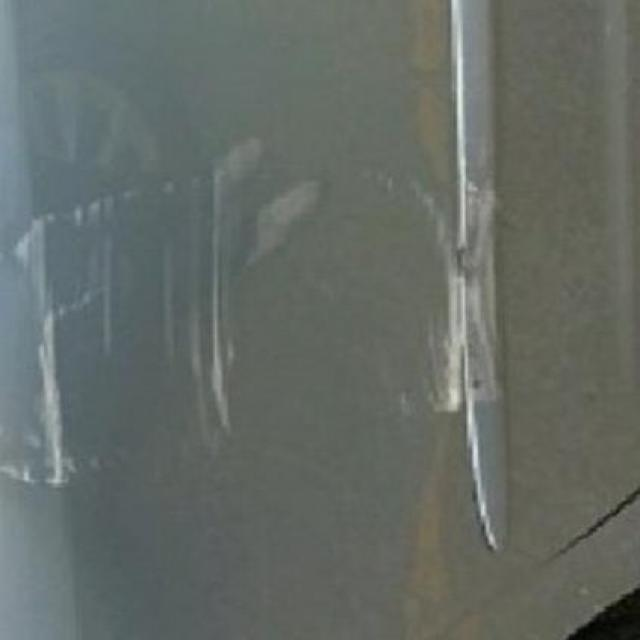scratch: (0, 120, 513, 540)
